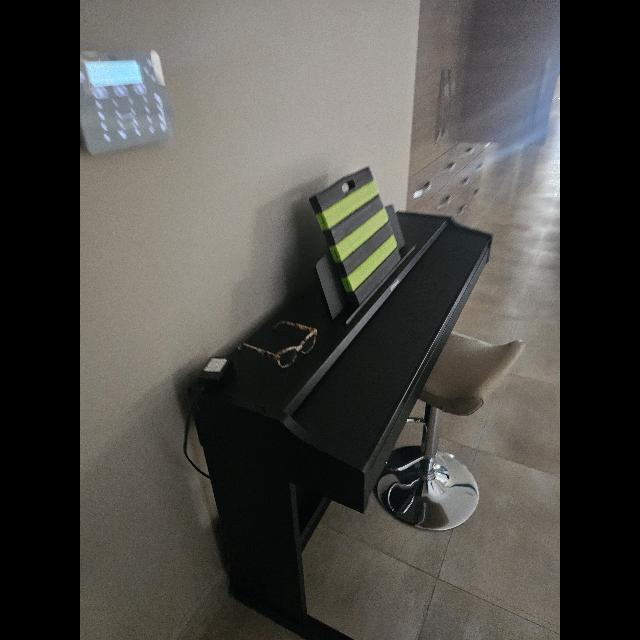glasses: (238, 320, 318, 368)
